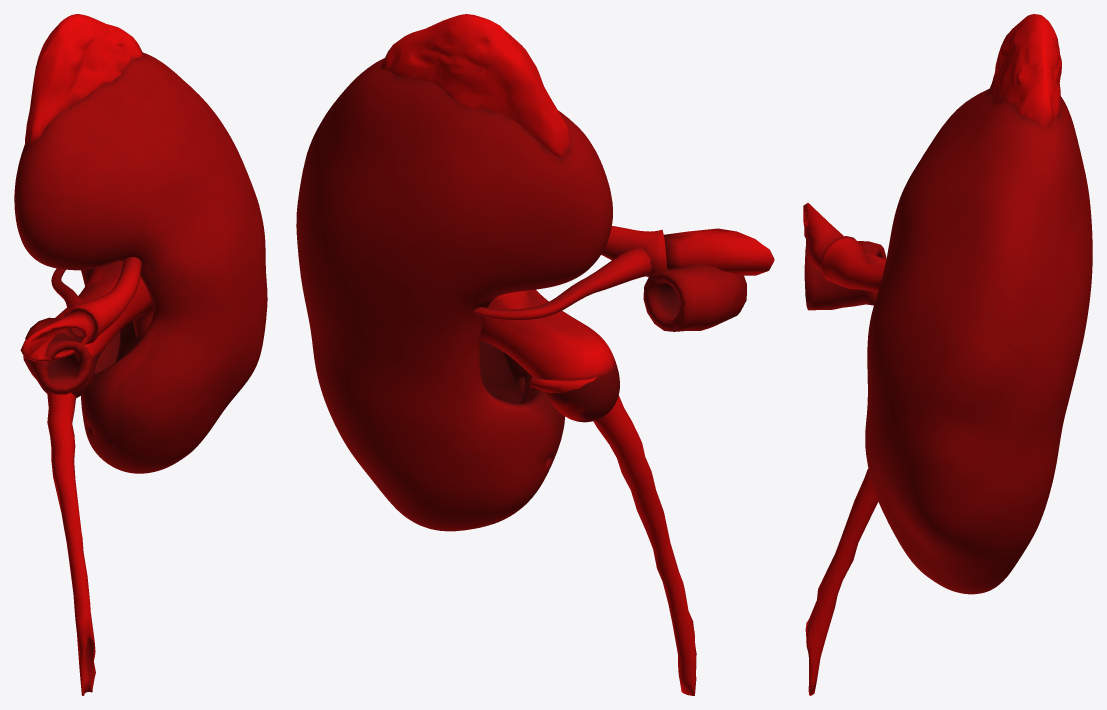
File: ledvica.glb
The picture shows the model from 3 angles, left to right: view 1: azimuth 30°, elevation 25°; view 2: azimuth 150°, elevation 25°; view 3: azimuth 270°, elevation 25°; orthographic projection. The views are drawn at different scales.
Parts seen in each view (by area): view 1: kidney_capsule_L (HRA), Suprarenal gland.l, Ureter.l, Evklid renal pelvis and calyces (lastno), Left renal vein, Anterior branch of renal artery.l, Left renal artery, Posterior branch of renal artery.l, outer_cortex_of_kidney_L (HRA), renal_column_L (HRA); view 2: kidney_capsule_L (HRA), Suprarenal gland.l, Evklid renal pelvis and calyces (lastno), Ureter.l, Left renal vein, Left renal artery, Posterior branch of renal artery.l, Anterior branch of renal artery.l, renal_column_L (HRA); view 3: kidney_capsule_L (HRA), Suprarenal gland.l, Ureter.l, Anterior branch of renal artery.l, Left renal vein, Left renal artery.
Part boxes in pixels (bbox=[...]): kidney_capsule_L (HRA): bbox=[14, 52, 267, 473]; Suprarenal gland.l: bbox=[25, 14, 142, 146]; Ureter.l: bbox=[47, 391, 95, 695]; Evklid renal pelvis and calyces (lastno): bbox=[41, 261, 153, 398]; Left renal vein: bbox=[23, 317, 91, 394]; Anterior branch of renal artery.l: bbox=[64, 257, 141, 344]; Left renal artery: bbox=[20, 310, 95, 361]; Posterior branch of renal artery.l: bbox=[51, 268, 85, 336]; outer_cortex_of_kidney_L (HRA): bbox=[90, 268, 120, 373]; renal_column_L (HRA): bbox=[115, 321, 141, 362]; kidney_capsule_L (HRA): bbox=[296, 58, 612, 531]; Suprarenal gland.l: bbox=[381, 14, 569, 156]; Evklid renal pelvis and calyces (lastno): bbox=[480, 289, 619, 422]; Ureter.l: bbox=[530, 376, 696, 695]; Left renal vein: bbox=[643, 264, 746, 331]; Left renal artery: bbox=[664, 228, 774, 275]; Posterior branch of renal artery.l: bbox=[472, 248, 651, 320]; Anterior branch of renal artery.l: bbox=[601, 226, 667, 276]; renal_column_L (HRA): bbox=[479, 340, 522, 403]; kidney_capsule_L (HRA): bbox=[865, 88, 1092, 594]; Suprarenal gland.l: bbox=[989, 14, 1061, 126]; Ureter.l: bbox=[805, 468, 878, 695]; Anterior branch of renal artery.l: bbox=[820, 236, 884, 291]; Left renal vein: bbox=[804, 237, 886, 310]; Left renal artery: bbox=[803, 203, 843, 270].
Bounding box in the file's own units: 0.0756 × 0.1397 × 0.0506.
1 material, 1 textured.
